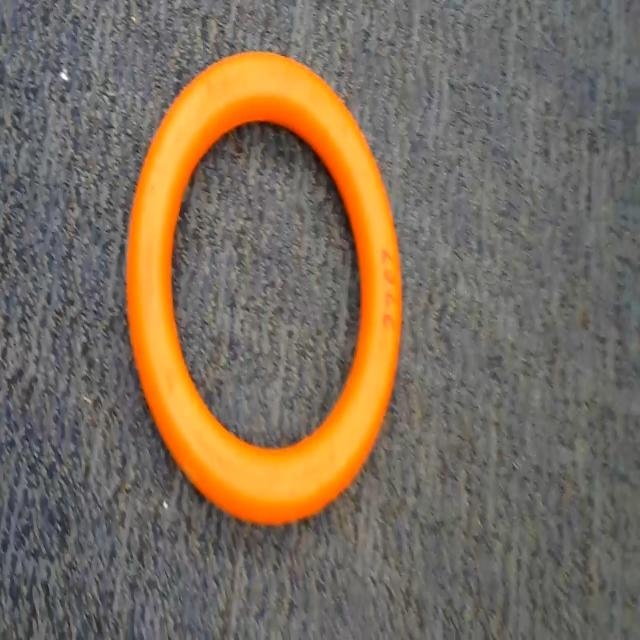note: (123, 49, 417, 536)
